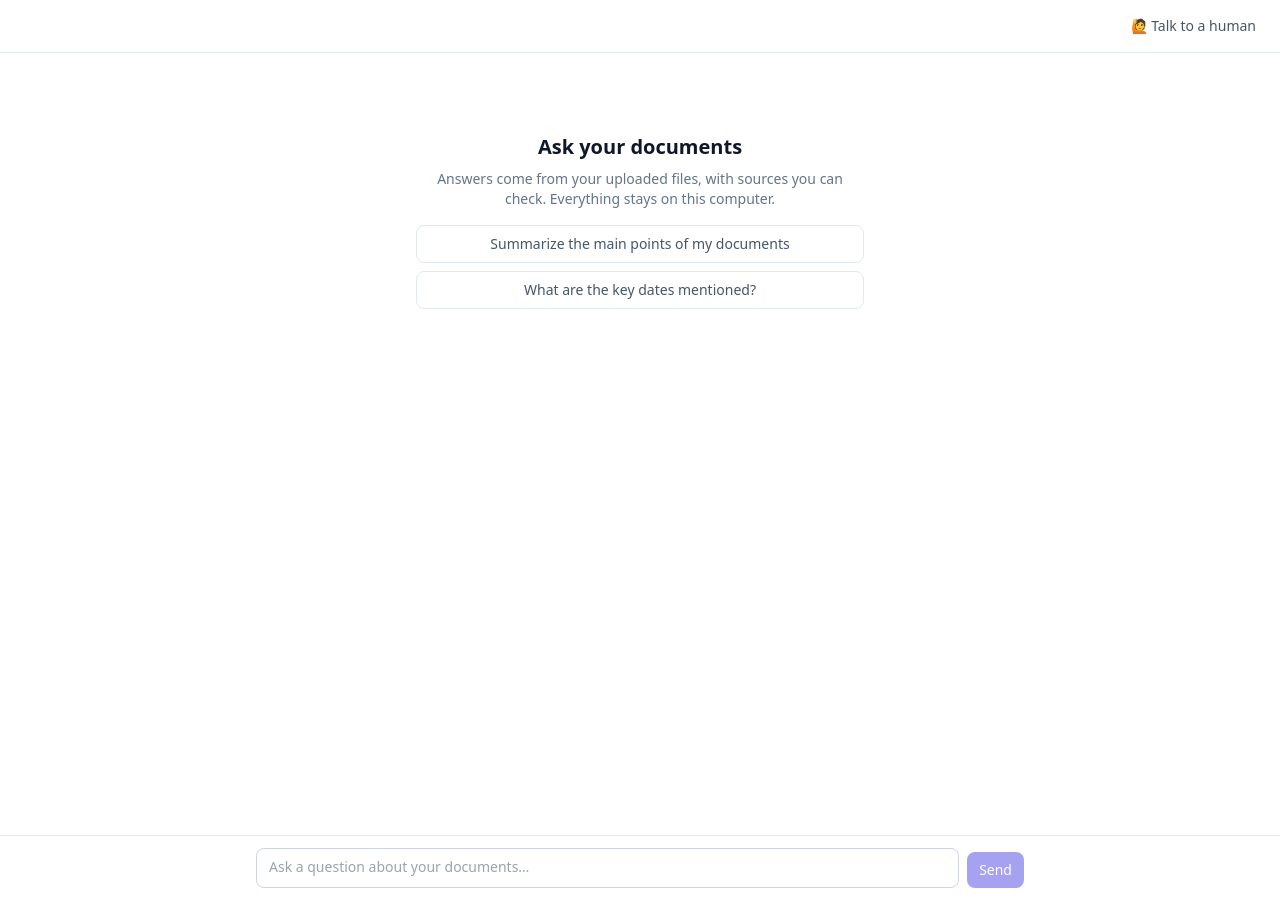
it: ChatPage › streams an answer and exposes its citations
Type "Where is the tower?" into the text box named "Message". click: (608, 868)
box: [256, 848, 959, 888]
Then press Enter
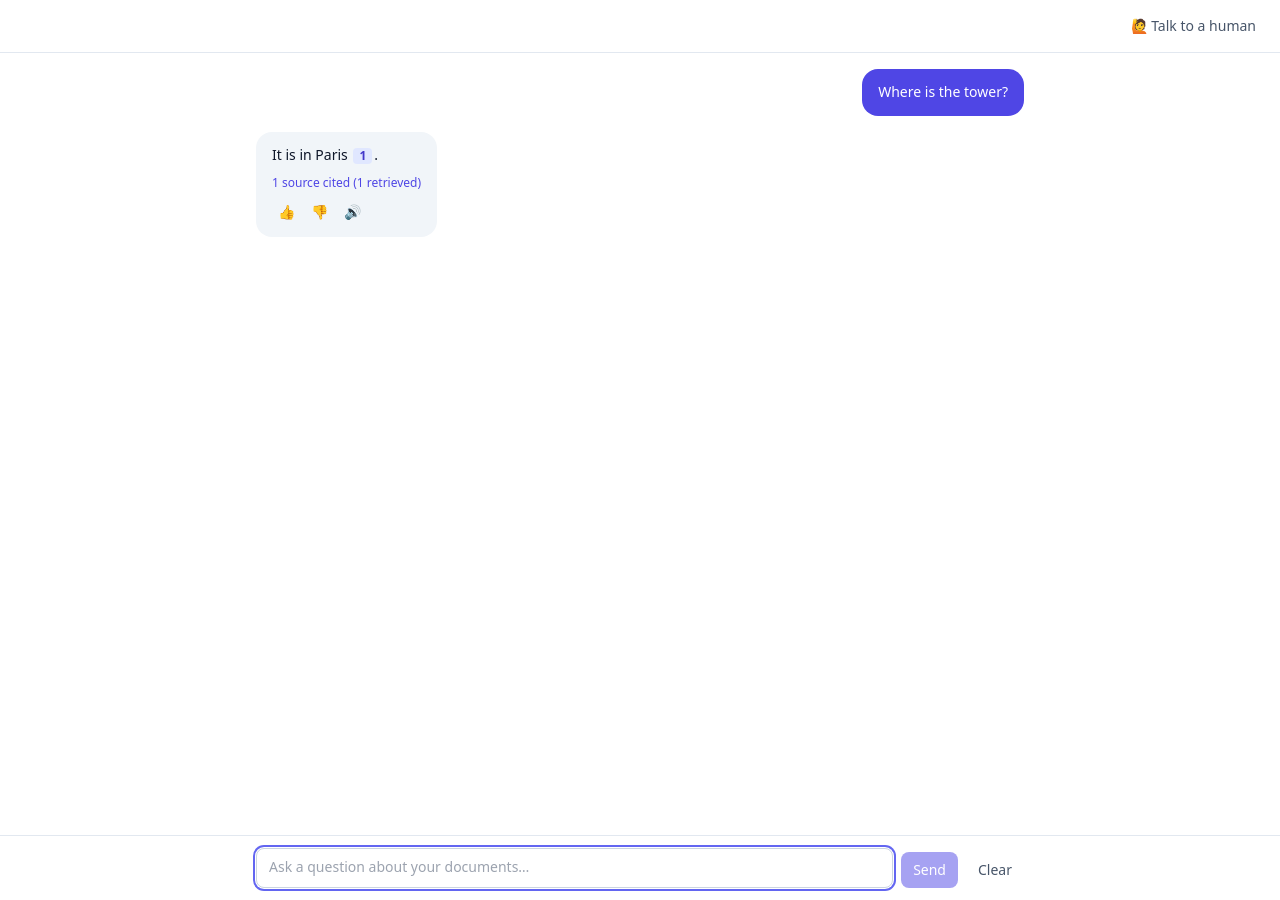
Result: the text "It is in Paris" is shown at [272, 145, 351, 164]
Click the button named "Open source 1". click: (363, 156)
box: [353, 148, 372, 164]
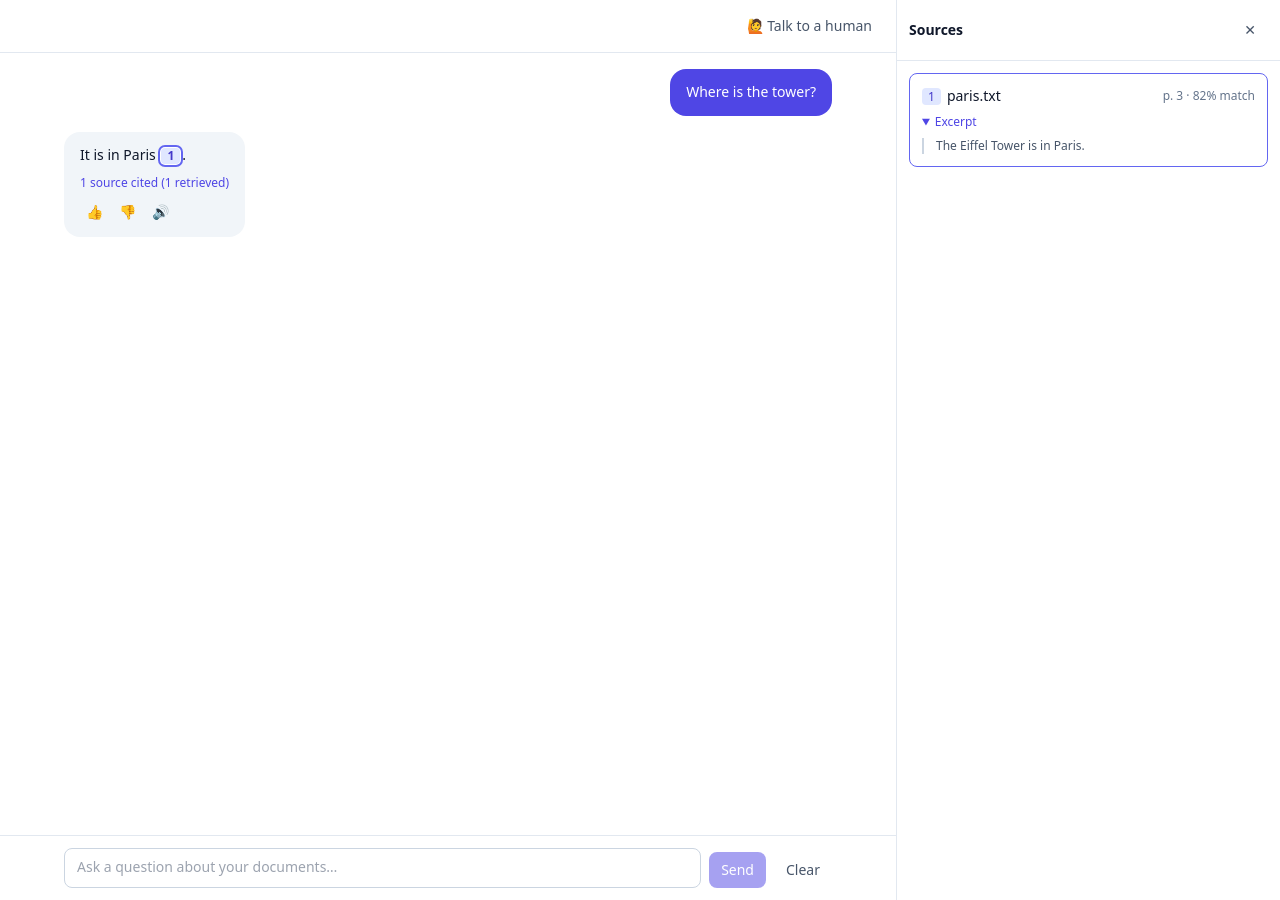
Result: the text "paris.txt" is shown at [947, 86, 1001, 105]
Result: the text "p. 3 · 82% match" is shown at [1163, 88, 1255, 104]
Result: the text "The Eiffel Tower is in Paris." is shown at [922, 138, 1255, 154]
